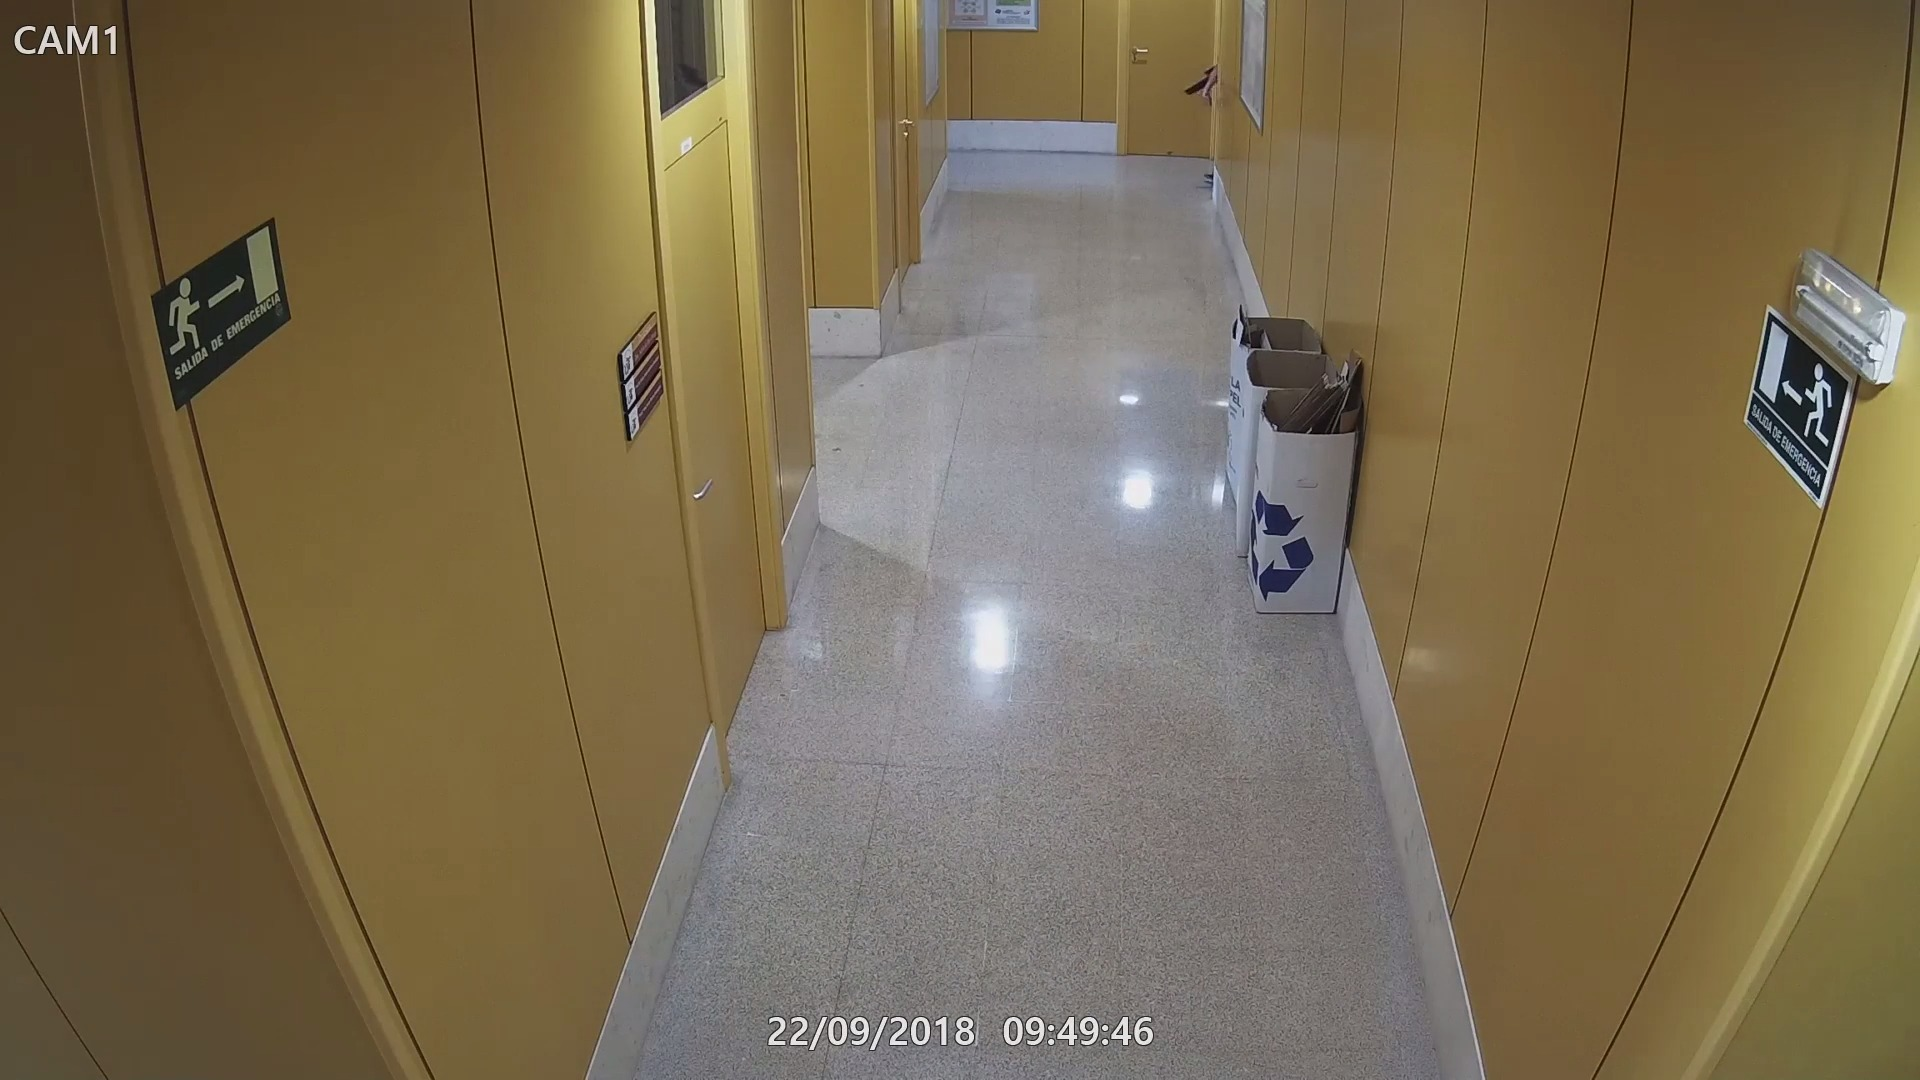Short_rifle: (1183, 67, 1216, 100)
